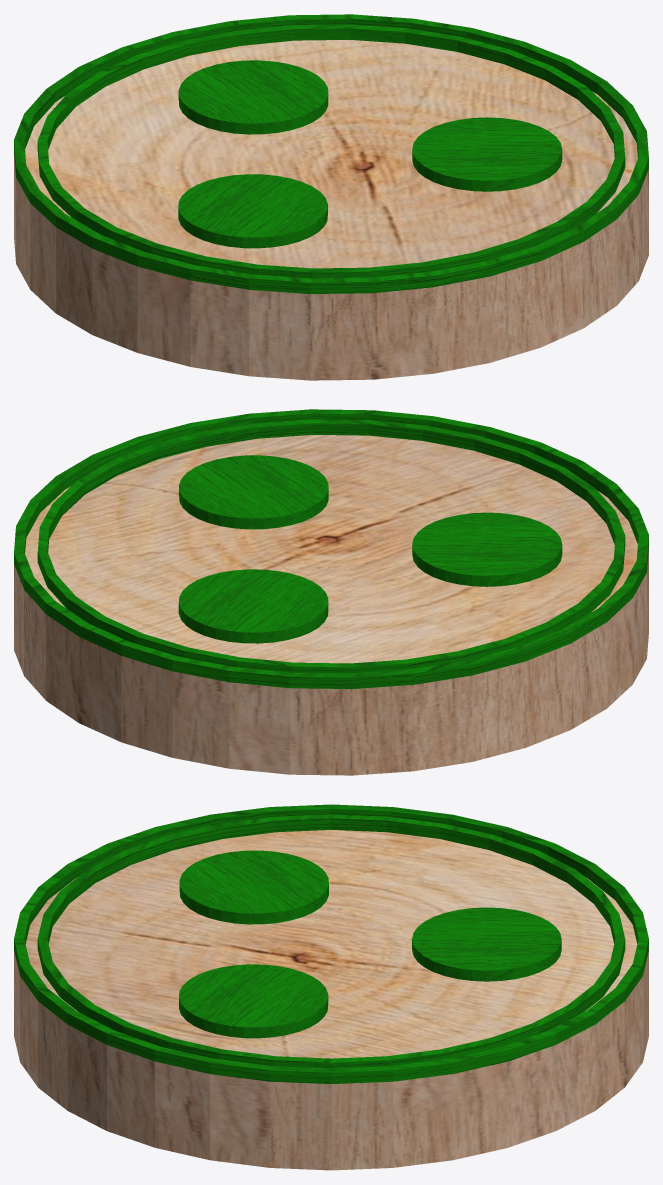
The model's file is Sonnestein3.fbx.
3 views of the same model, one above another, from view 1: azimuth 30°, elevation 25°; view 2: azimuth 150°, elevation 25°; view 3: azimuth 270°, elevation 25° (orthographic).
Parts seen in each view (by area): view 1: Sonne3; view 2: Sonne3; view 3: Sonne3.
Boxes of the visible parts, bbox=[...] form: Sonne3: bbox=[14, 14, 648, 380]; Sonne3: bbox=[14, 409, 648, 775]; Sonne3: bbox=[14, 804, 648, 1170].
Bounding box in the file's own units: 200 × 34 × 200.
